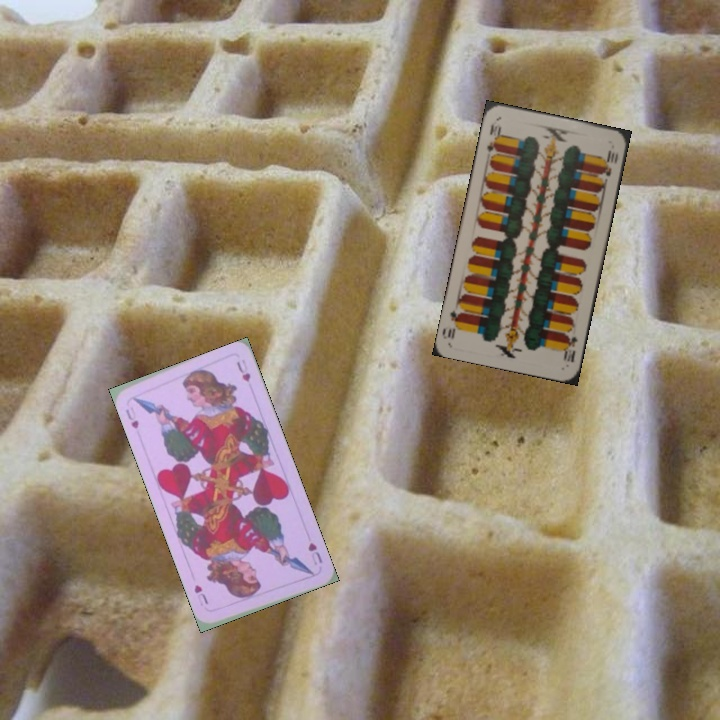E10: (483, 117, 504, 155), (559, 331, 580, 365)
HU: (304, 538, 325, 568), (121, 402, 141, 431)
